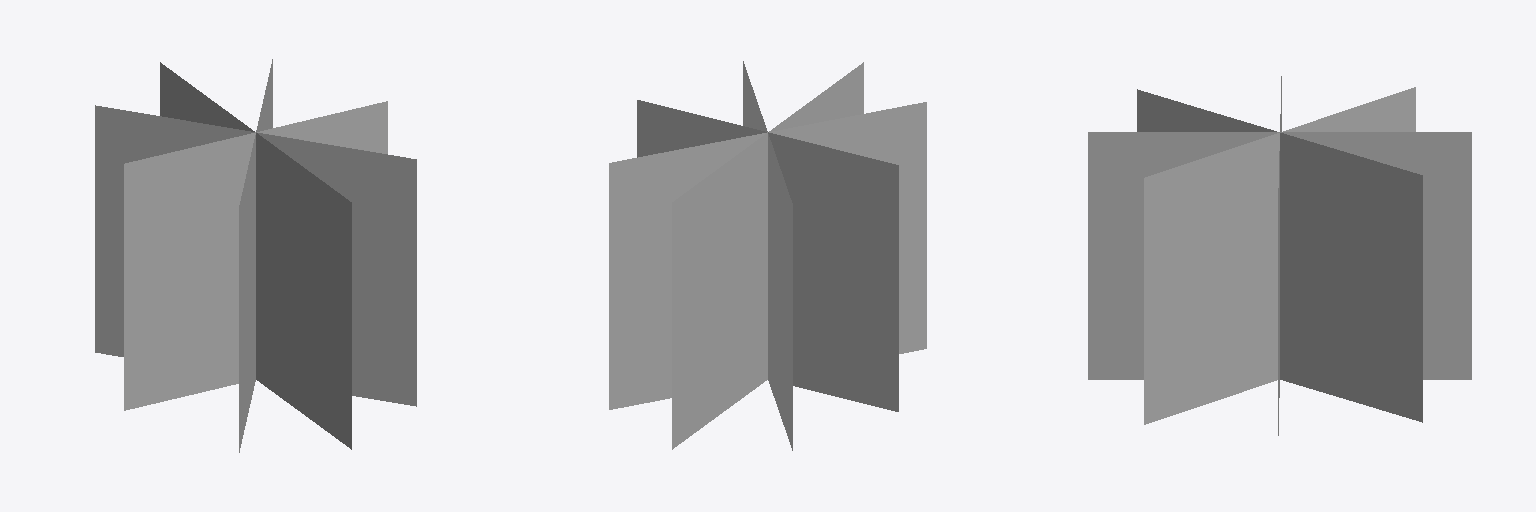
Rendered from grass.obj.
3 renders of one model, left to right at view 1: azimuth 30°, elevation 25°; view 2: azimuth 150°, elevation 25°; view 3: azimuth 270°, elevation 25°, orthographic.
Parts seen in each view (by area): view 1: Grass6_Grass1; view 2: Grass6_Grass1; view 3: Grass6_Grass1.
Part boxes in pixels (left/top/right/bottom): Grass6_Grass1: left=95, top=59, right=416, bottom=452; Grass6_Grass1: left=609, top=61, right=926, bottom=450; Grass6_Grass1: left=1088, top=76, right=1471, bottom=435.
Size of the model in its own units: 9.84 by 8.85 by 12.45.